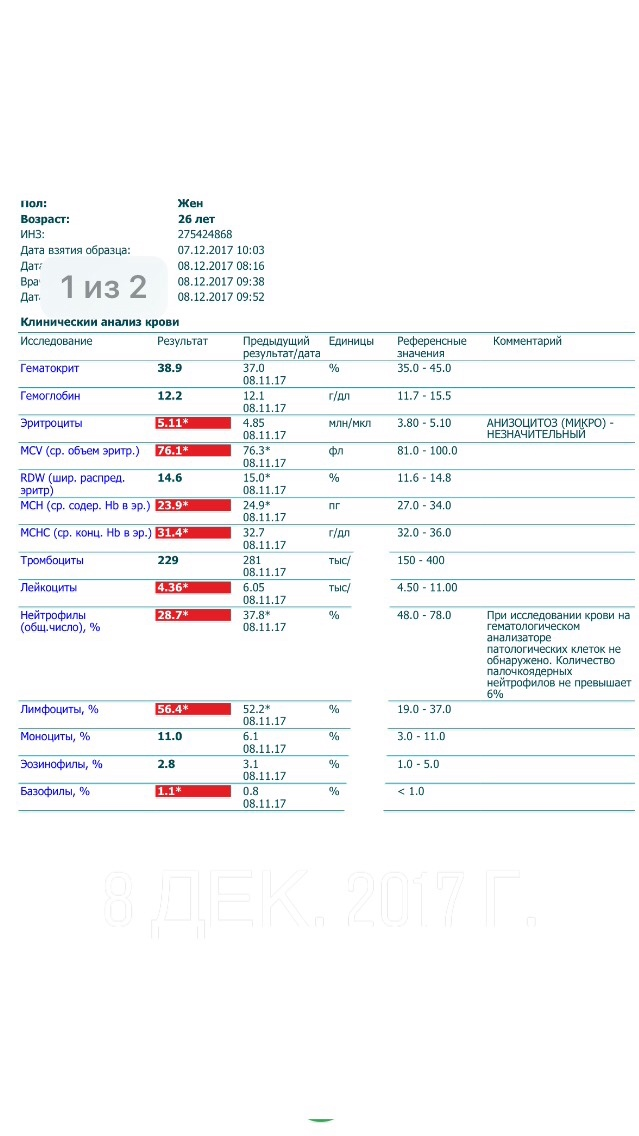column: (485, 332, 632, 810), (19, 332, 152, 810), (241, 332, 321, 810), (395, 332, 467, 810), (156, 332, 209, 810), (327, 332, 375, 810)
